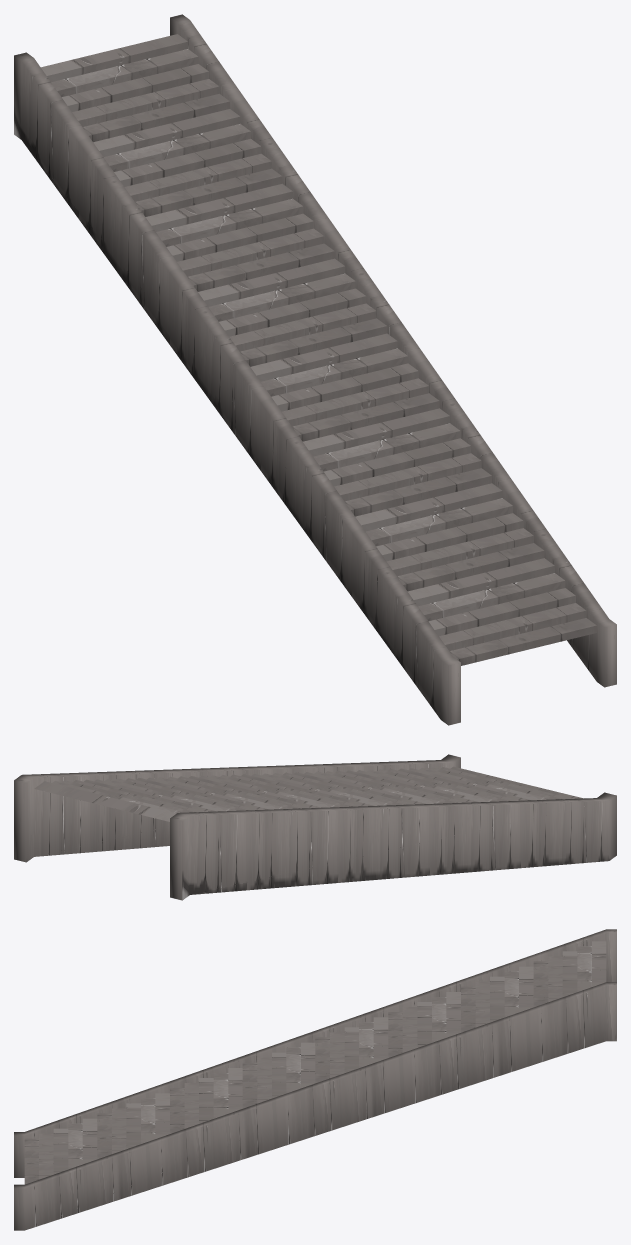
The model's file is Stairs_1.fbx.
The picture shows the model from 3 angles, top to bottom: view 1: azimuth 30°, elevation 25°; view 2: azimuth 150°, elevation 25°; view 3: azimuth 270°, elevation 25°; orthographic projection. The views are drawn at different scales.
Parts seen in each view (by area): view 1: Stairs_1; view 2: Stairs_1; view 3: Stairs_1.
Part boxes in pixels (left/top/right/bottom): Stairs_1: left=14, top=14, right=616, bottom=725; Stairs_1: left=14, top=754, right=616, bottom=900; Stairs_1: left=14, top=929, right=616, bottom=1230.
Size of the model in its own units: 4.65 by 9.28 by 20.75.
